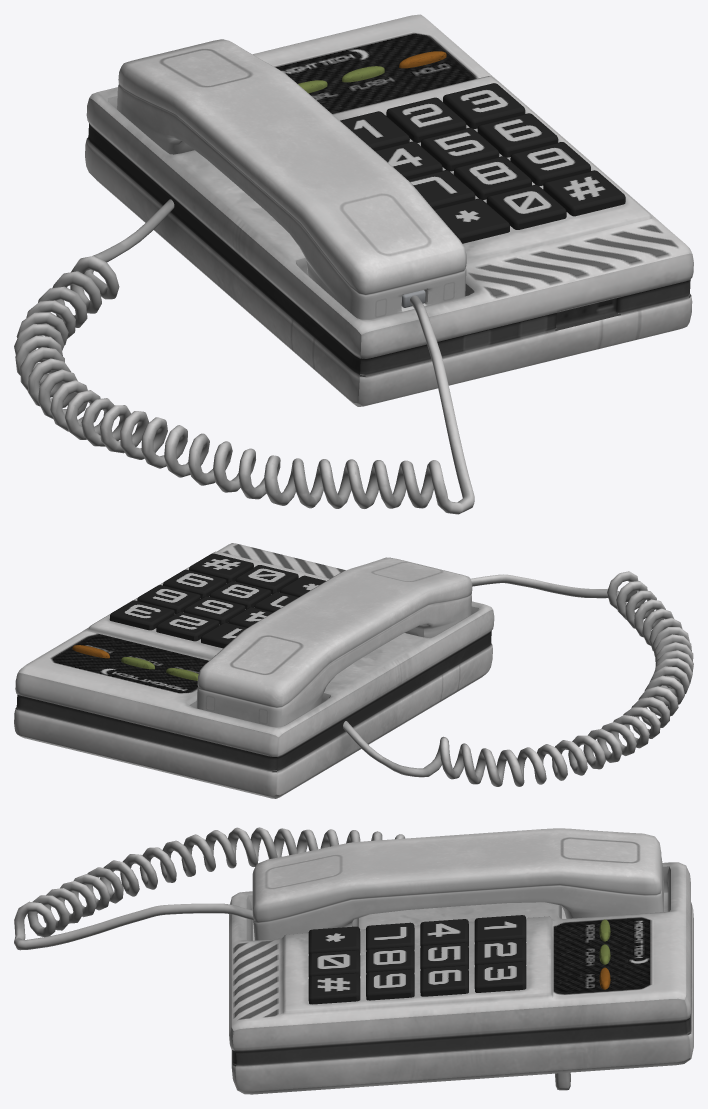
The model's file is telephone.glb.
The picture shows the model from 3 angles, top to bottom: view 1: azimuth 30°, elevation 25°; view 2: azimuth 150°, elevation 25°; view 3: azimuth 270°, elevation 25°; orthographic projection. The views are drawn at different scales.
Visible parts, largest first — view 1: PhoneBody, receiver, Cable, Numbers, Lights; view 2: PhoneBody, receiver, Cable, Numbers, Lights; view 3: PhoneBody, receiver, Numbers, Cable, Lights.
Part boxes in pixels (x1=…): PhoneBody: x1=85, y1=14, x2=693, y2=406; receiver: x1=117, y1=39, x2=466, y2=319; Cable: x1=14, y1=199, x2=474, y2=514; Numbers: x1=340, y1=83, x2=625, y2=243; Lights: x1=298, y1=51, x2=446, y2=93; PhoneBody: x1=14, y1=543, x2=494, y2=798; receiver: x1=196, y1=557, x2=472, y2=726; Cable: x1=343, y1=571, x2=693, y2=786; Numbers: x1=109, y1=553, x2=325, y2=648; Lights: x1=72, y1=645, x2=198, y2=680; PhoneBody: x1=229, y1=862, x2=693, y2=1094; receiver: x1=252, y1=828, x2=663, y2=940; Numbers: x1=308, y1=915, x2=526, y2=1004; Cable: x1=14, y1=827, x2=405, y2=950; Lights: x1=599, y1=919, x2=610, y2=989.
Size of the model in its own units: 2.89 by 0.8025 by 3.5.
1 material, 1 textured.
